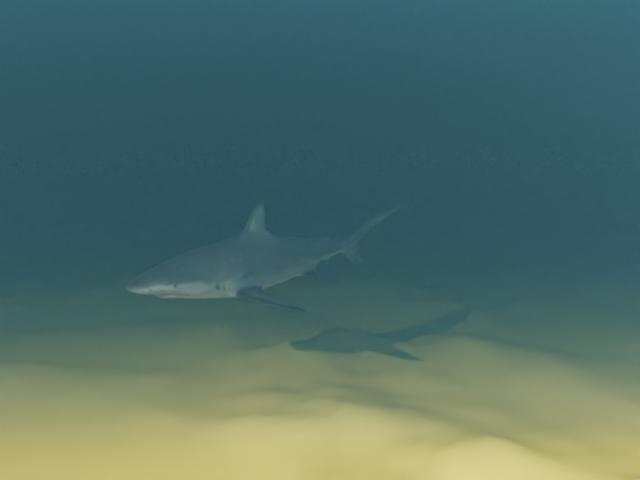Carribean Shark.001: (126, 197, 412, 312)
